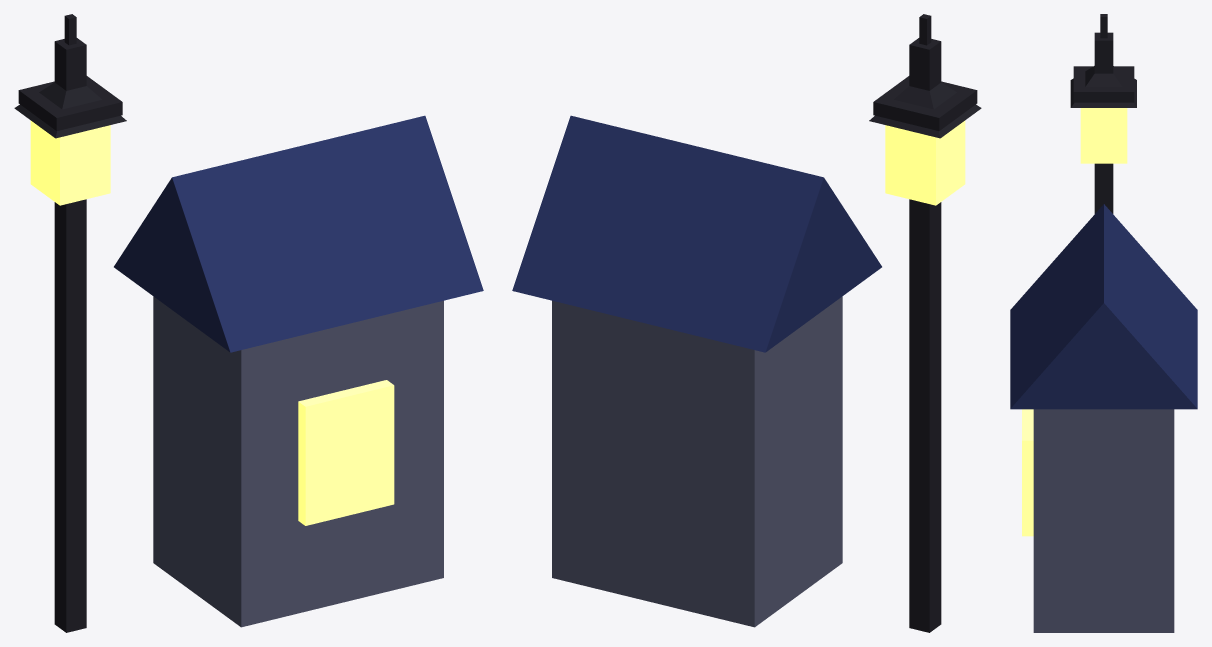
File: az-lamp-shrine.glb
The picture shows the model from 3 angles, left to right: view 1: azimuth 30°, elevation 25°; view 2: azimuth 150°, elevation 25°; view 3: azimuth 270°, elevation 25°; orthographic projection. The views are drawn at different scales.
Parts seen in each view (by area): view 1: cw_paint, cw_glow; view 2: cw_paint, cw_glow; view 3: cw_paint, cw_glow.
Part boxes in pixels (<box>): cw_paint: <box>14,14,483,632</box>; cw_glow: <box>30,120,394,525</box>; cw_paint: <box>512,14,981,632</box>; cw_glow: <box>885,120,965,205</box>; cw_paint: <box>1010,14,1197,632</box>; cw_glow: <box>1022,108,1127,536</box>.
Size of the model in its own units: 1.54 by 2.3 by 0.7999.
